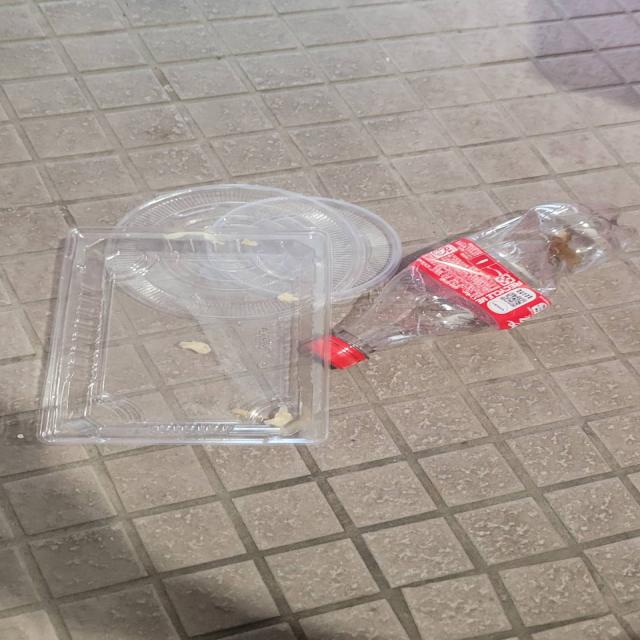PET bottle: (333, 201, 617, 359)
Plastic: (31, 217, 370, 463), (101, 180, 429, 309)
